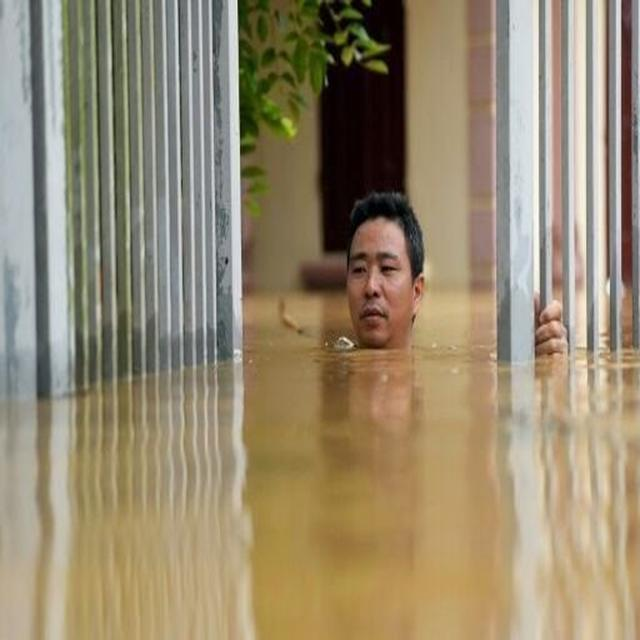Person-RiskLevel3: (289, 175, 594, 374)
